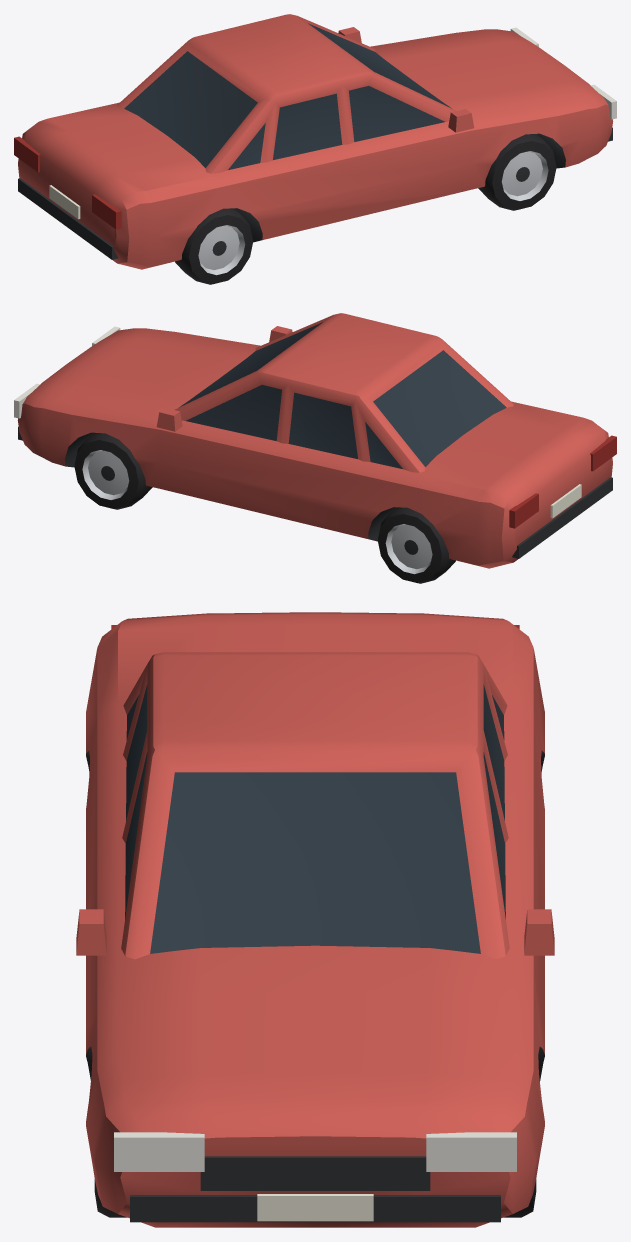
The model's file is saloon.glb.
The picture shows the model from 3 angles, top to bottom: view 1: azimuth 30°, elevation 25°; view 2: azimuth 150°, elevation 25°; view 3: azimuth 270°, elevation 25°; orthographic projection. The views are drawn at different scales.
Visible parts, largest first — view 1: saloon; view 2: saloon; view 3: saloon.
Boxes of the visible parts, left/top/right/bottom form: saloon: left=14, top=14, right=616, bottom=284; saloon: left=14, top=313, right=616, bottom=583; saloon: left=76, top=612, right=554, bottom=1227.
Size of the model in its own units: 4.61 by 1.43 by 1.89.
